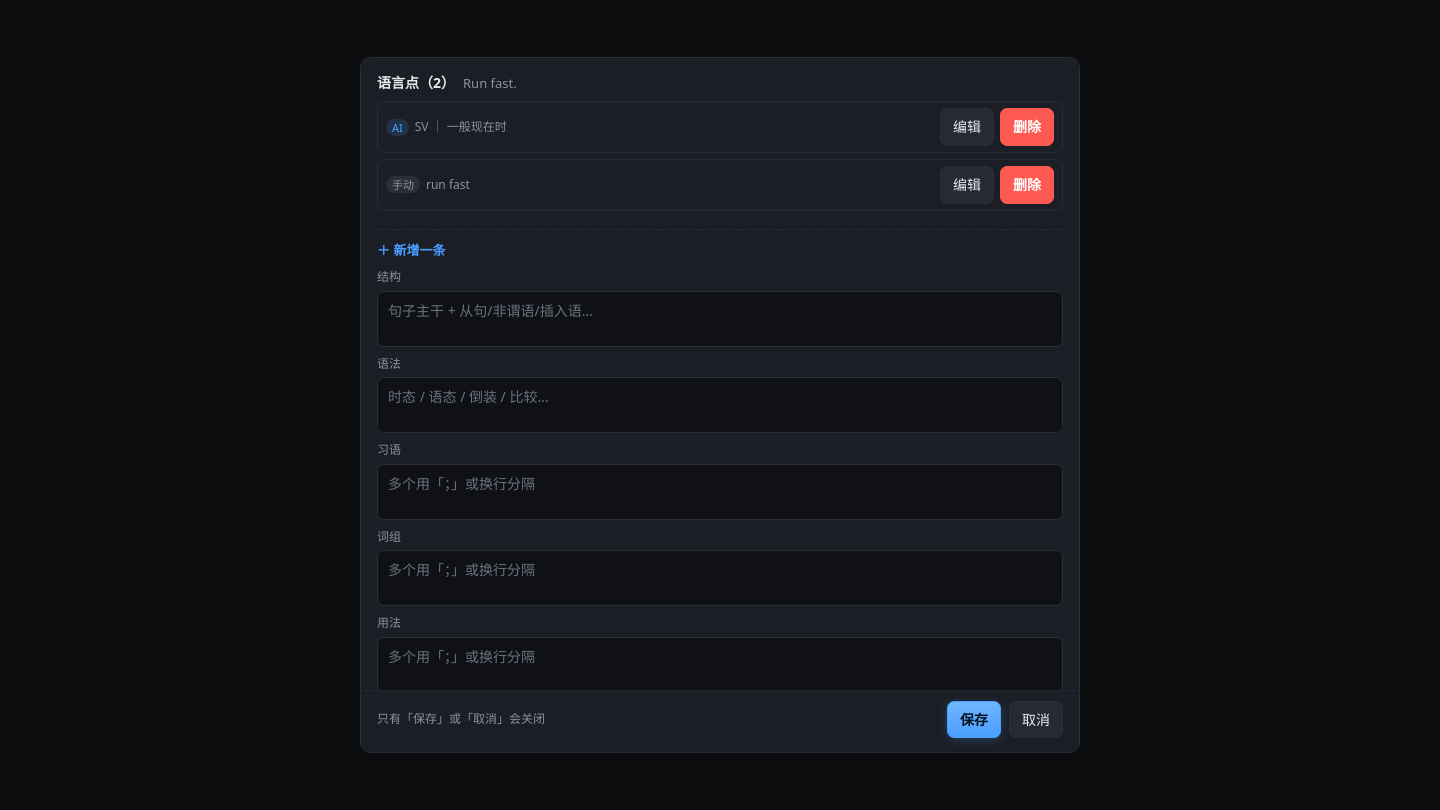
Scenario: LanguageEditor：已有语言点 › 点列表整条就能编辑：AI 写的与手动加的都能点开回填
# 第 1 条是 AI
Click the element with class "lang-item" showing "AI SV ｜ 一般现在时 编辑 删除" at (720, 127), box [377, 101, 1063, 153]
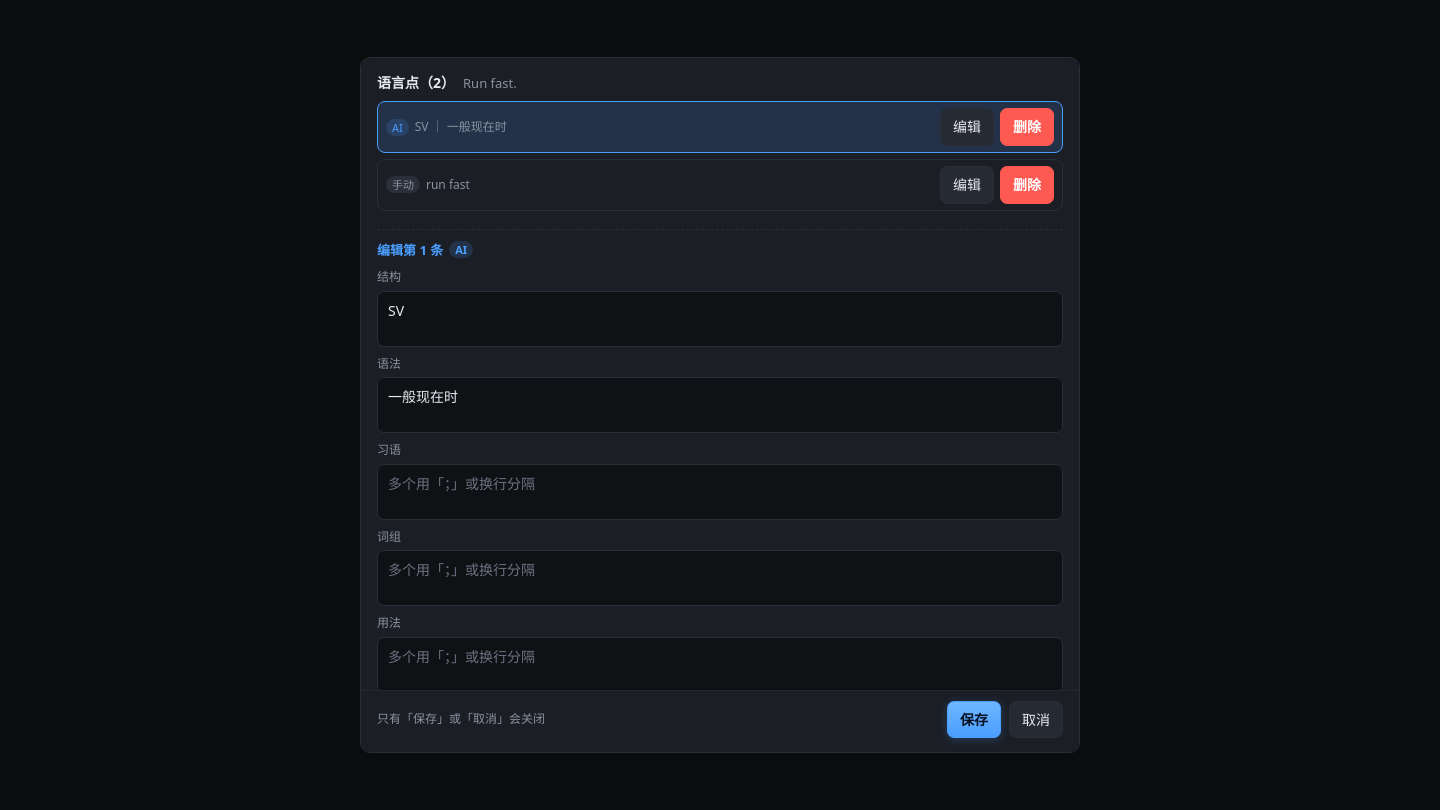
Check: the text "编辑第 1 条" is shown, box [377, 240, 443, 260]
Check: the text box showing "SV" holds "SV", box [377, 290, 1063, 346]
# 第 2 条是手动
Click the element with class "lang-item" showing "手动 run fast 编辑 删除" at (720, 185), box [377, 159, 1063, 211]
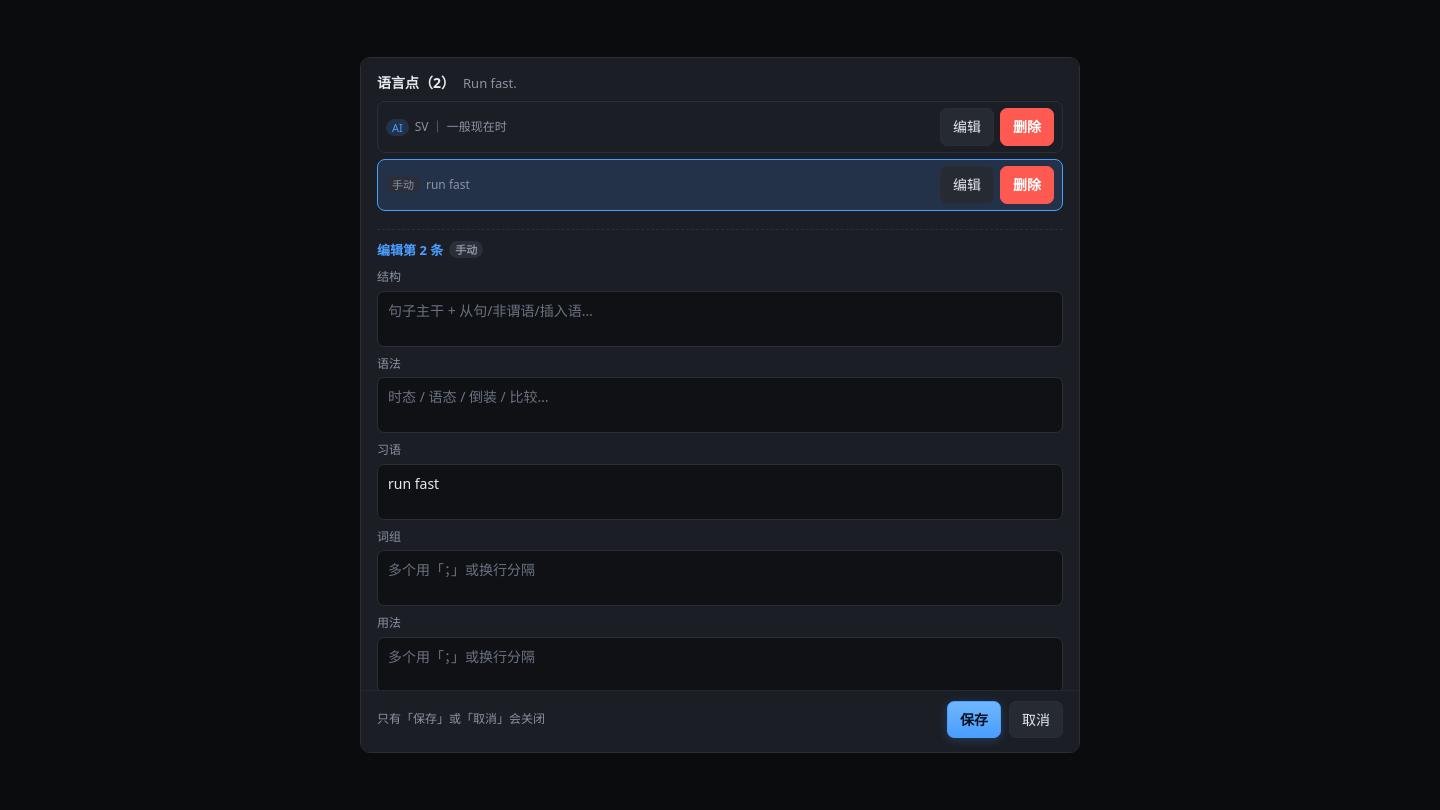
Check: the text "编辑第 2 条" is shown, box [377, 240, 443, 260]
Check: the text box showing "run fast" holds "run fast", box [377, 464, 1063, 520]
